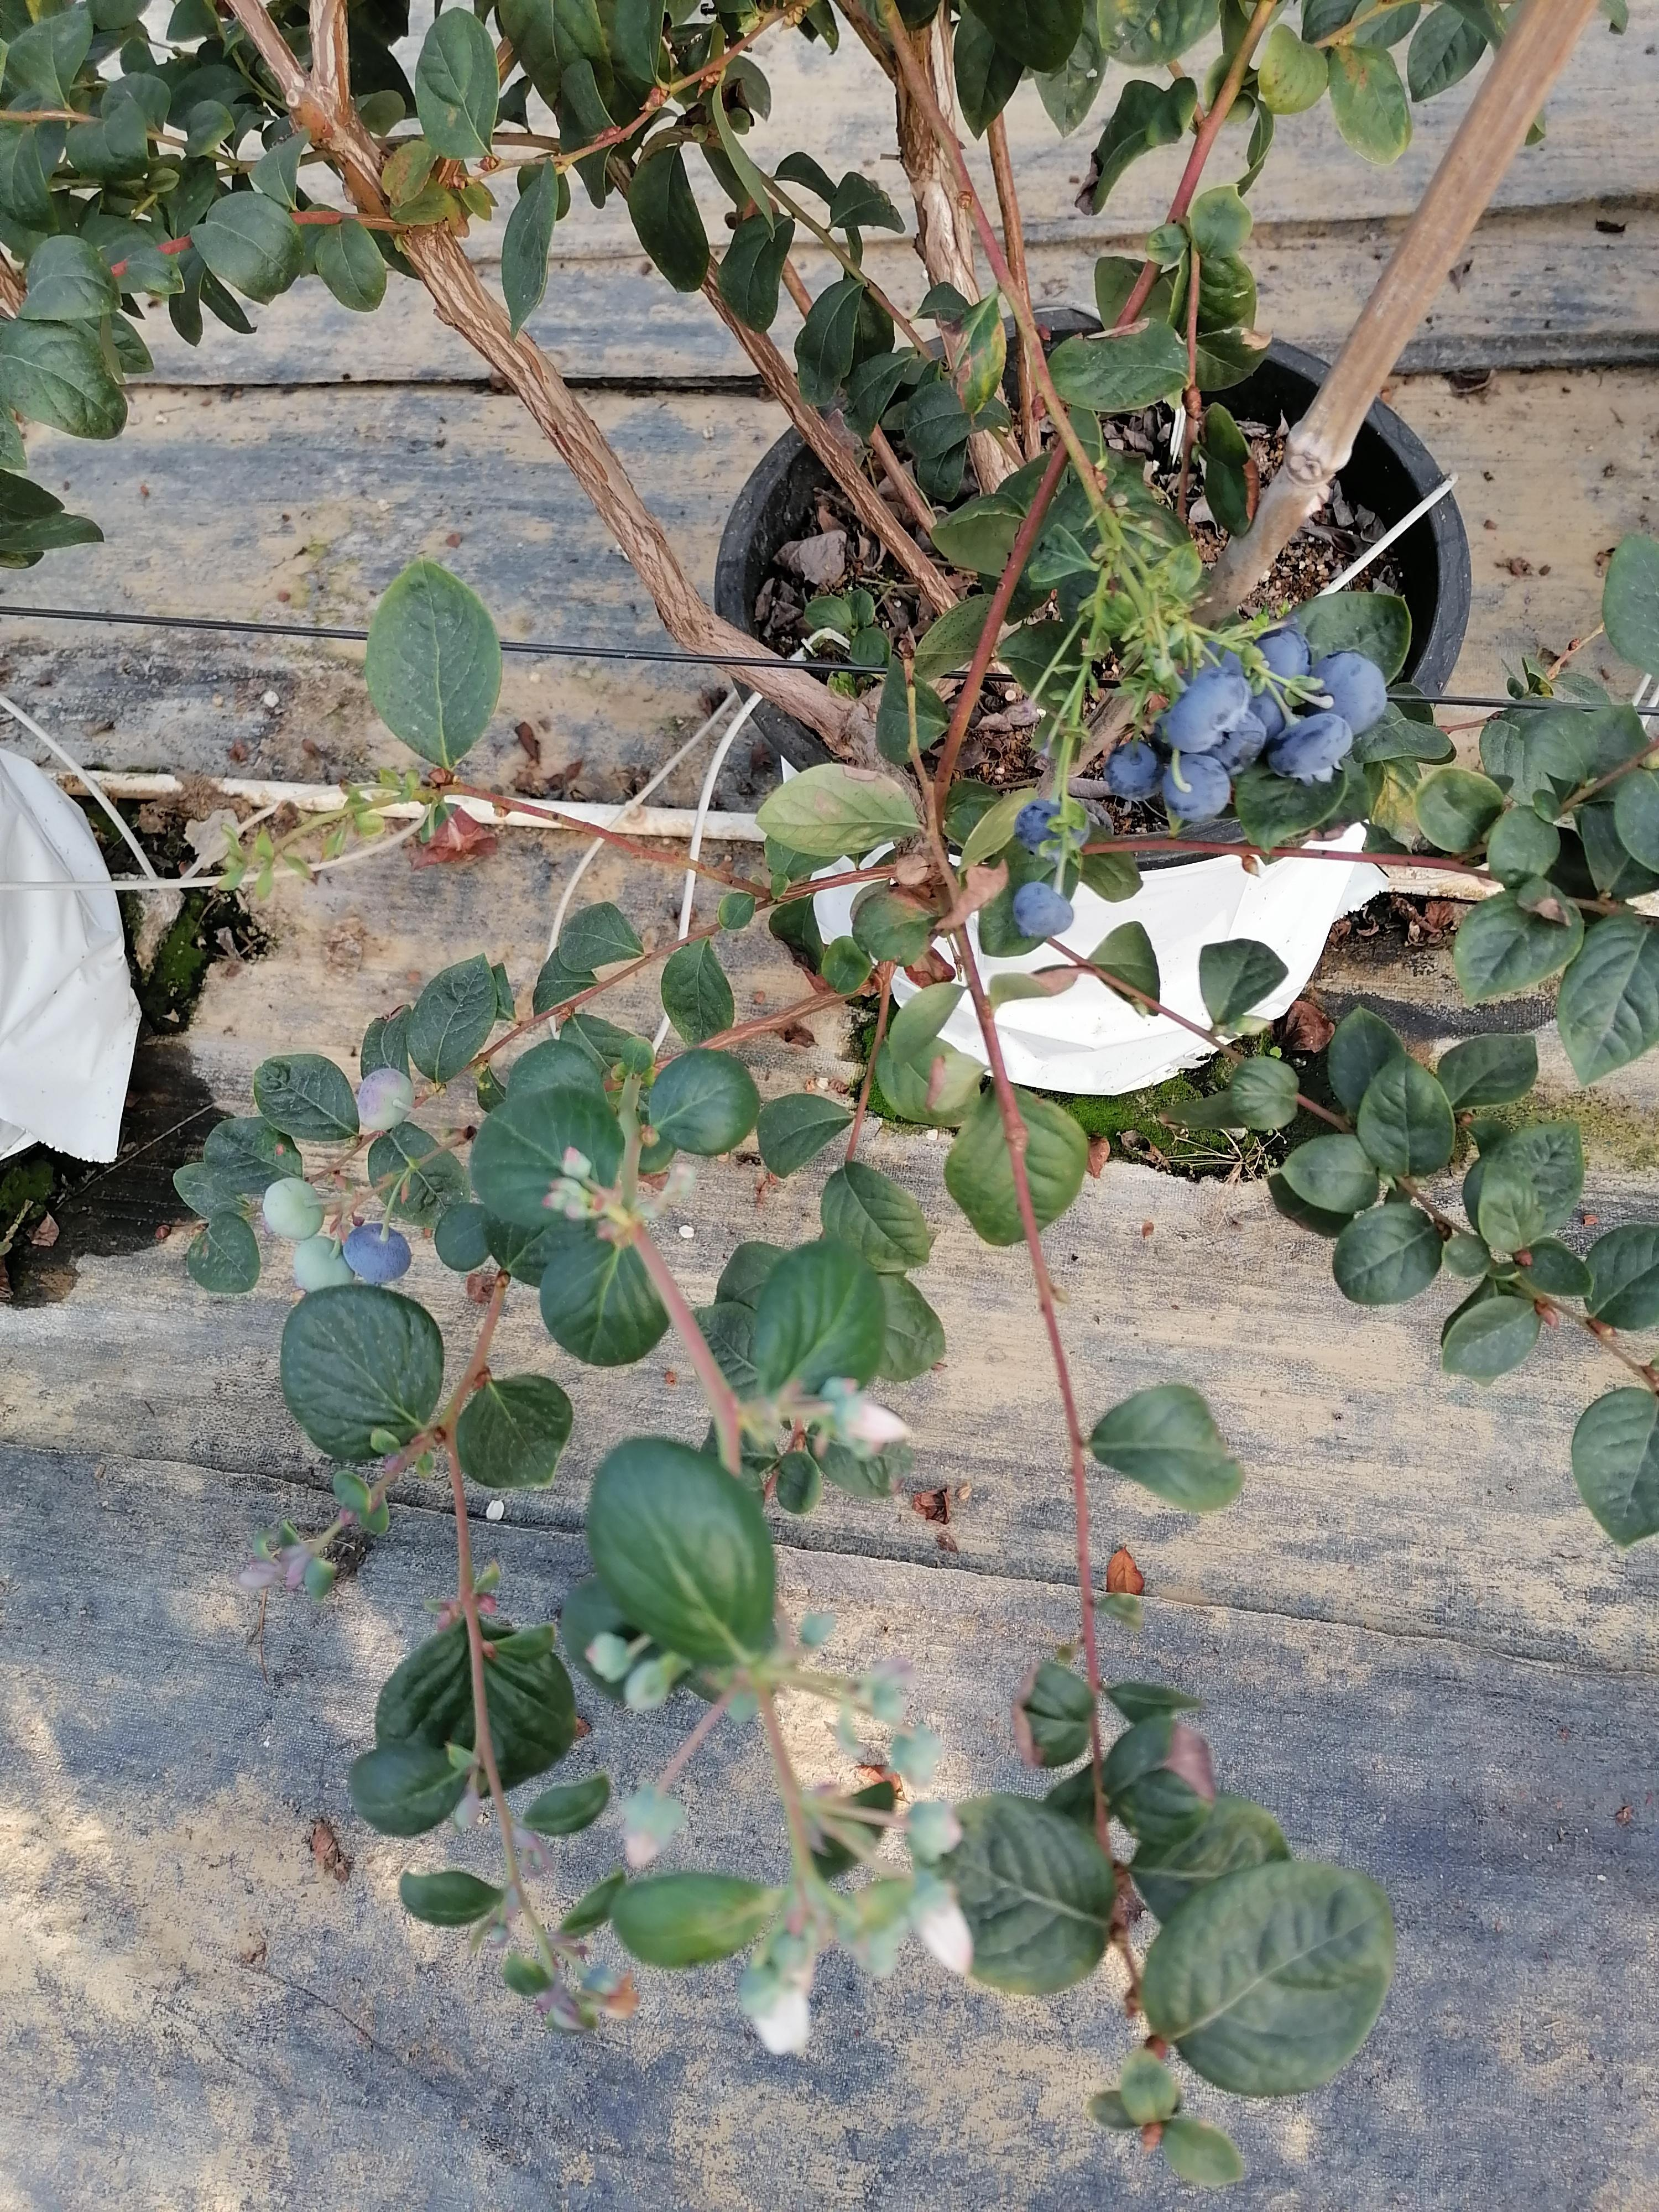ripe-blueberries: (1166, 667, 1251, 752), (1312, 650, 1389, 737), (1269, 712, 1352, 787), (1012, 798, 1091, 864), (1164, 752, 1229, 824), (343, 1223, 411, 1285), (1201, 711, 1265, 775), (1105, 740, 1169, 801), (1258, 627, 1314, 697), (1239, 678, 1293, 747), (1012, 883, 1073, 937)
